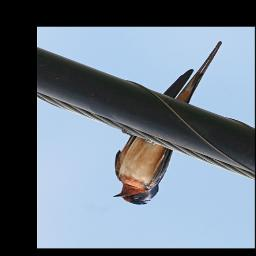Swallow: (113, 41, 223, 206)
